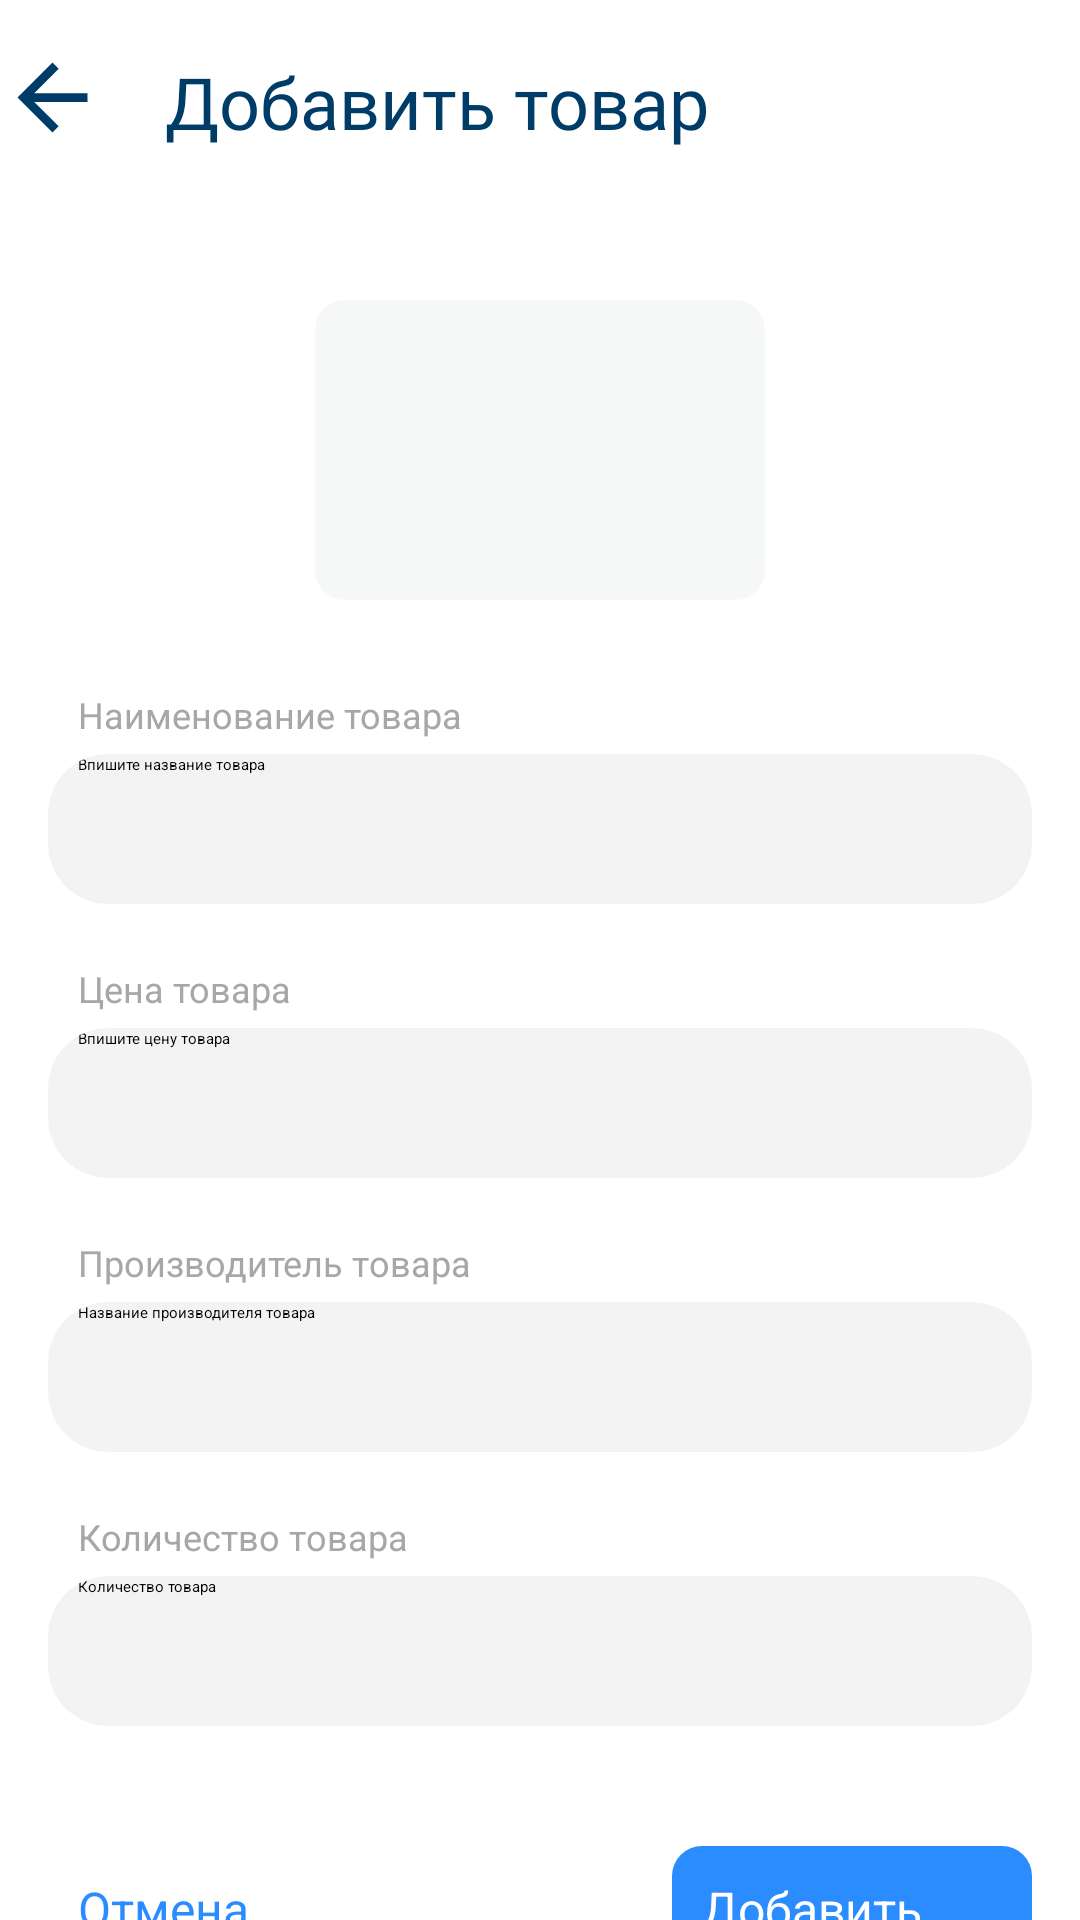

Named icons in this screenshot (1080*1920) and their bounding boxes, (x1, y1, x2, y2):
arrow back: (17, 62, 88, 133)
